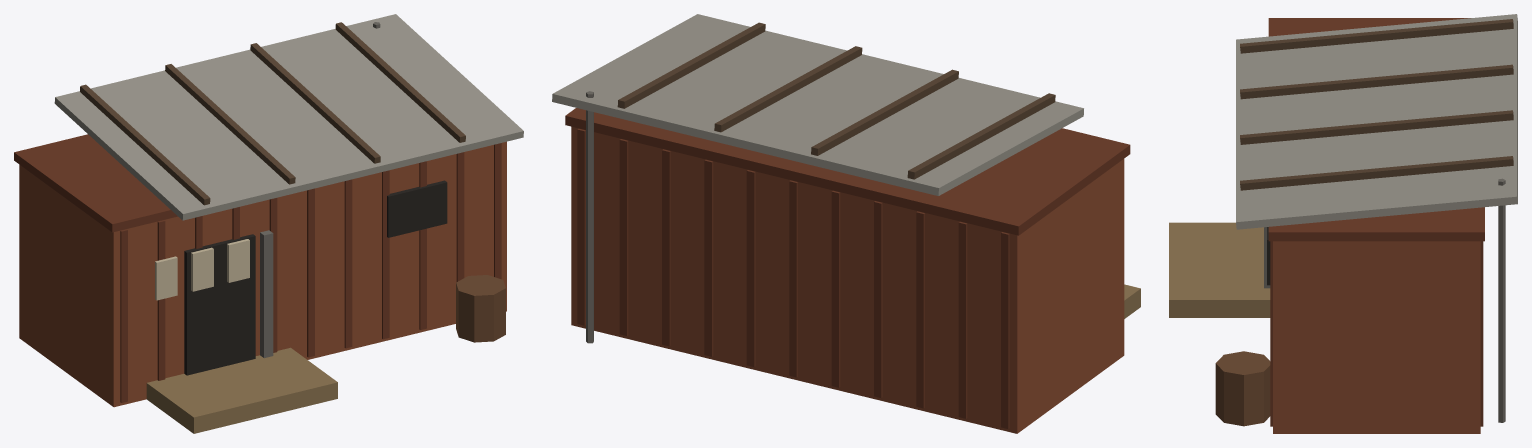
Rendered from S_Container.glb.
The picture shows the model from 3 angles, left to right: view 1: azimuth 30°, elevation 25°; view 2: azimuth 150°, elevation 25°; view 3: azimuth 270°, elevation 25°; orthographic projection. The views are drawn at different scales.
Visible parts, largest first — view 1: S_Container; view 2: S_Container; view 3: S_Container.
Part boxes in pixels (bbox=[...]): S_Container: bbox=[14, 14, 523, 433]; S_Container: bbox=[552, 14, 1140, 433]; S_Container: bbox=[1169, 14, 1517, 433].
Bounding box in the file's own units: 6.1 × 3.27 × 4.2.
